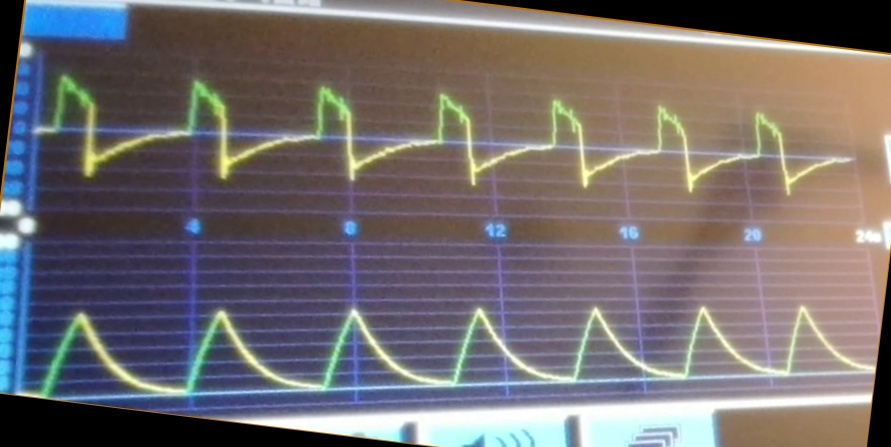Accumulation Flow: (43, 72, 851, 207)
Volume: (34, 289, 872, 394)
